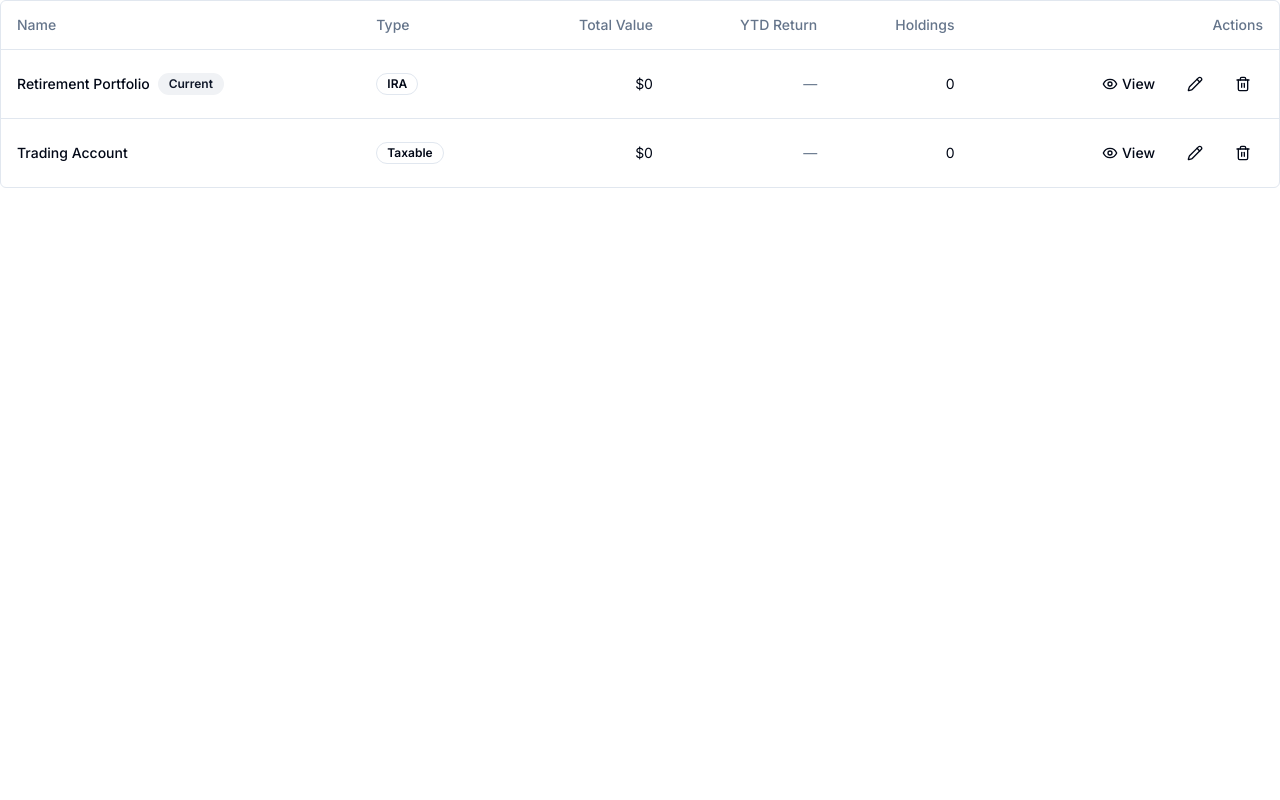
PortfoliosTable - Delete Functionality › should open delete dialog when Delete button is clicked
Expected: the text "Retirement Portfolio" is shown, [17,74,150,92]
// Click first Delete button
Click the button named "Delete" in the row of "Retirement Portfolio" at (1243, 84), box [1223,66,1263,102]
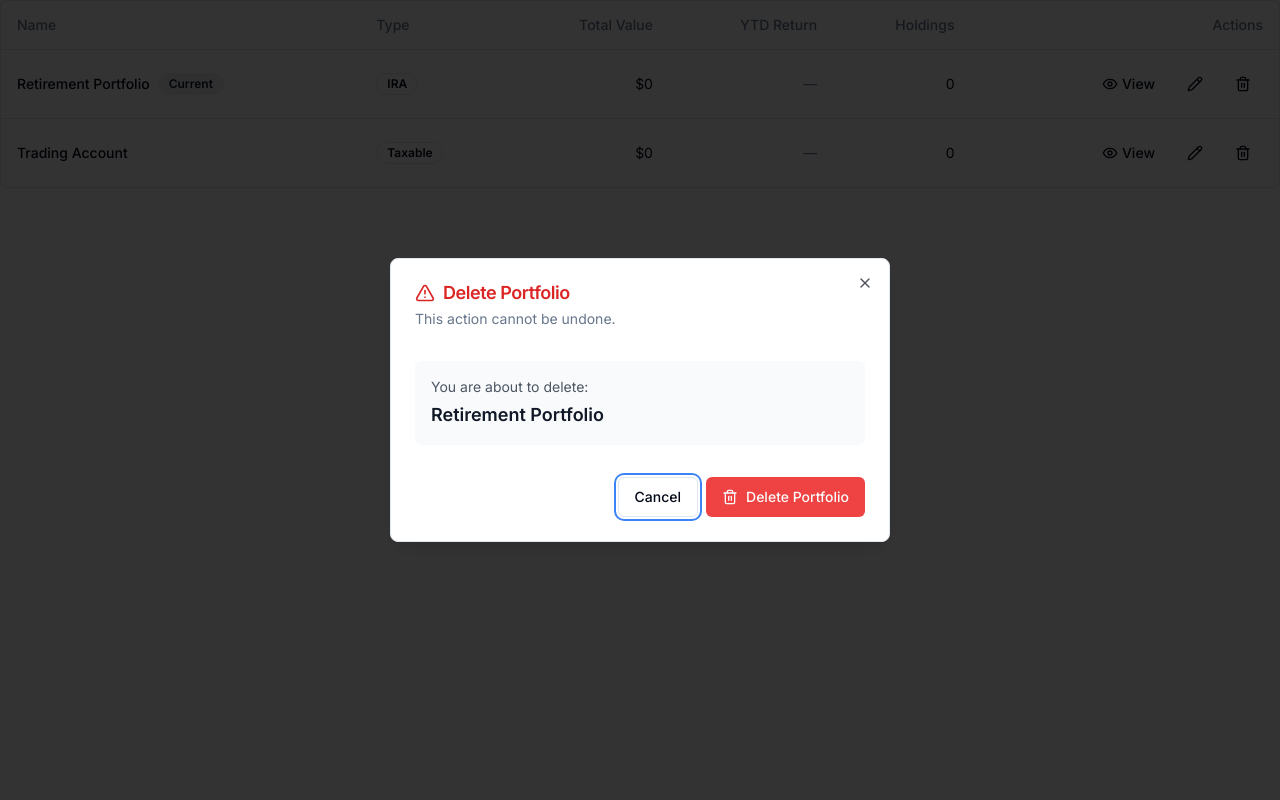
Result: the heading "Delete Portfolio" is shown at [415,282,570,303]
